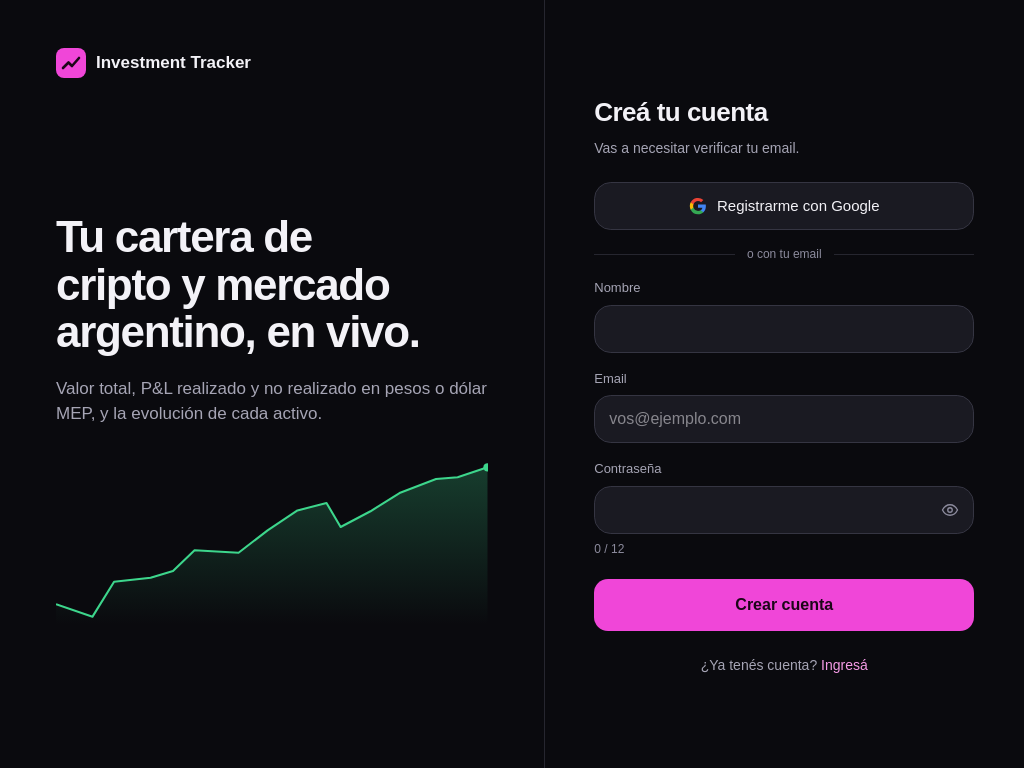
Test: /register › sends the trimmed name and shows a neutral check-your-email state
Check: the heading "Creá tu cuenta" is shown, box left=594, top=97, right=768, bottom=127
Type "  Rami  " into the field labelled "Nombre".
click(784, 329); type("  Rami  ")  # box left=594, top=305, right=974, bottom=353
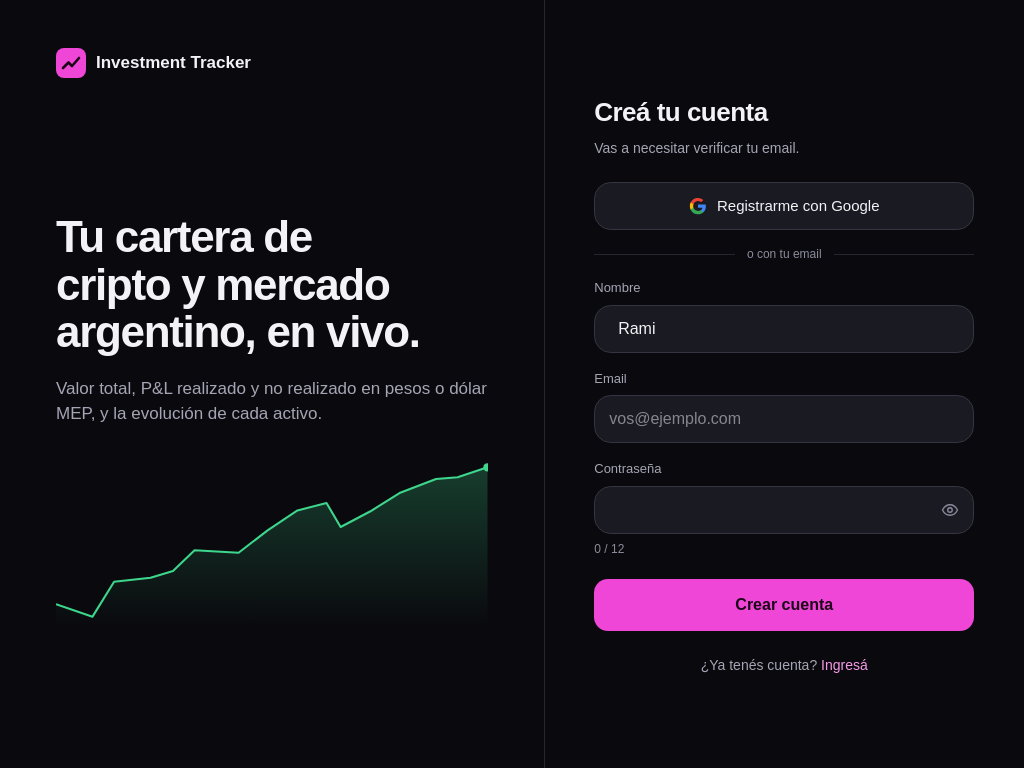
Type "rami@example.com" into the field labelled "Email".
click(784, 419); type("rami@example.com")  # box left=594, top=395, right=974, bottom=443
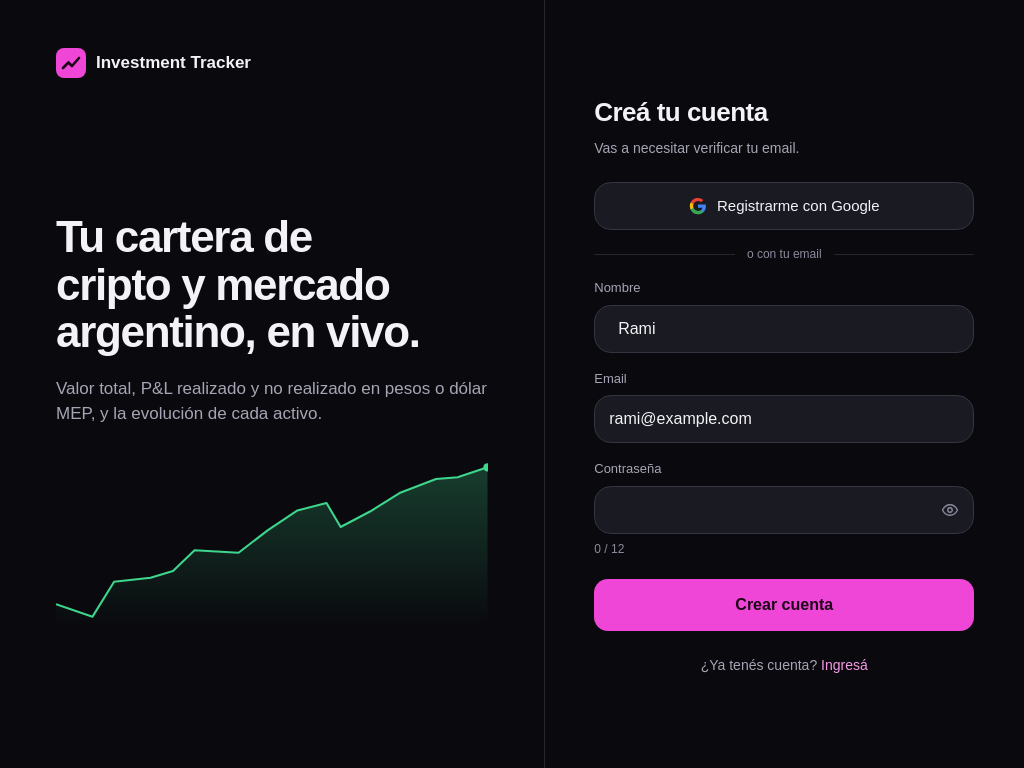
Type "correct horse battery" into the password field labelled "Contraseña".
click(784, 510); type("correct horse battery")  # box left=594, top=486, right=974, bottom=534
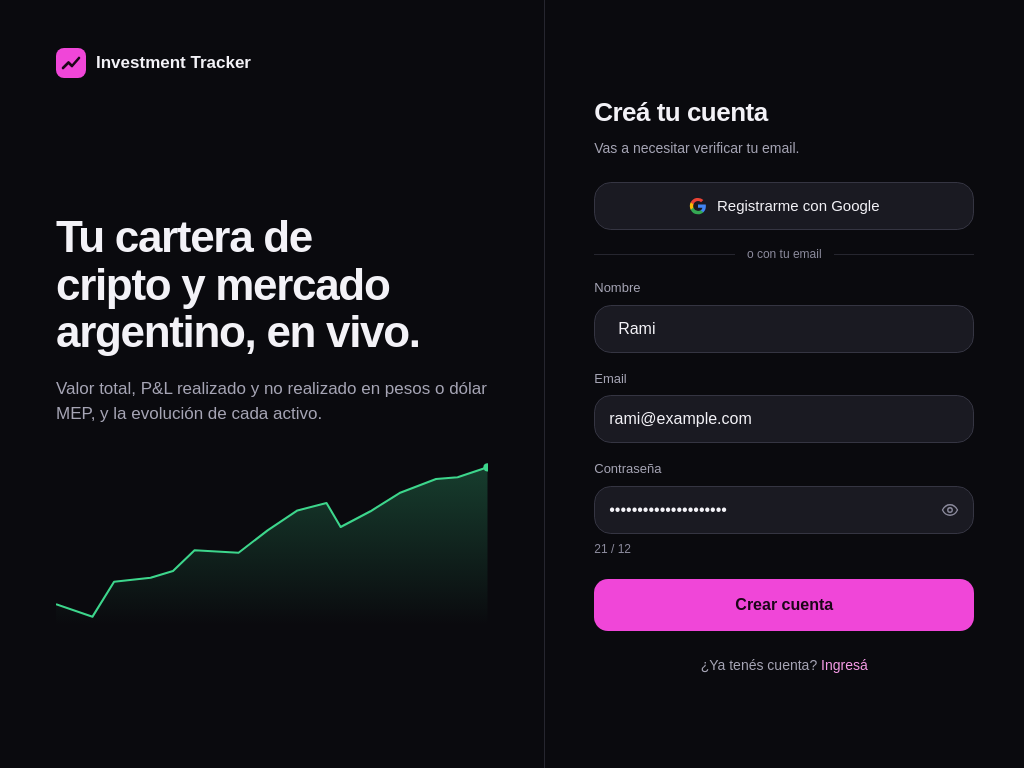
Click the button "Crear cuenta".
click(784, 605)  # box left=594, top=579, right=974, bottom=631
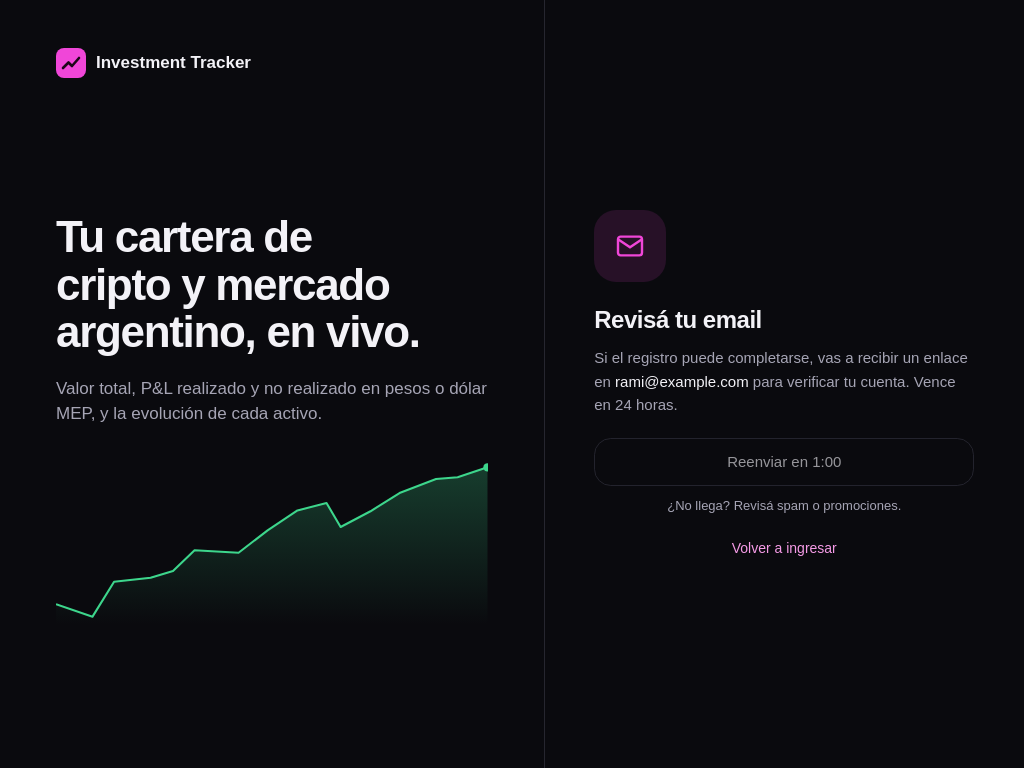
Check: the heading "Revisá tu email" is shown, box left=594, top=306, right=762, bottom=333
Check: the text "Si el registro puede completarse, vas a recibir un enlace en" shows "rami@example.com", box left=615, top=373, right=749, bottom=390
Check: the button "Reenviar en 1:00" is disabled, box left=594, top=438, right=974, bottom=486
